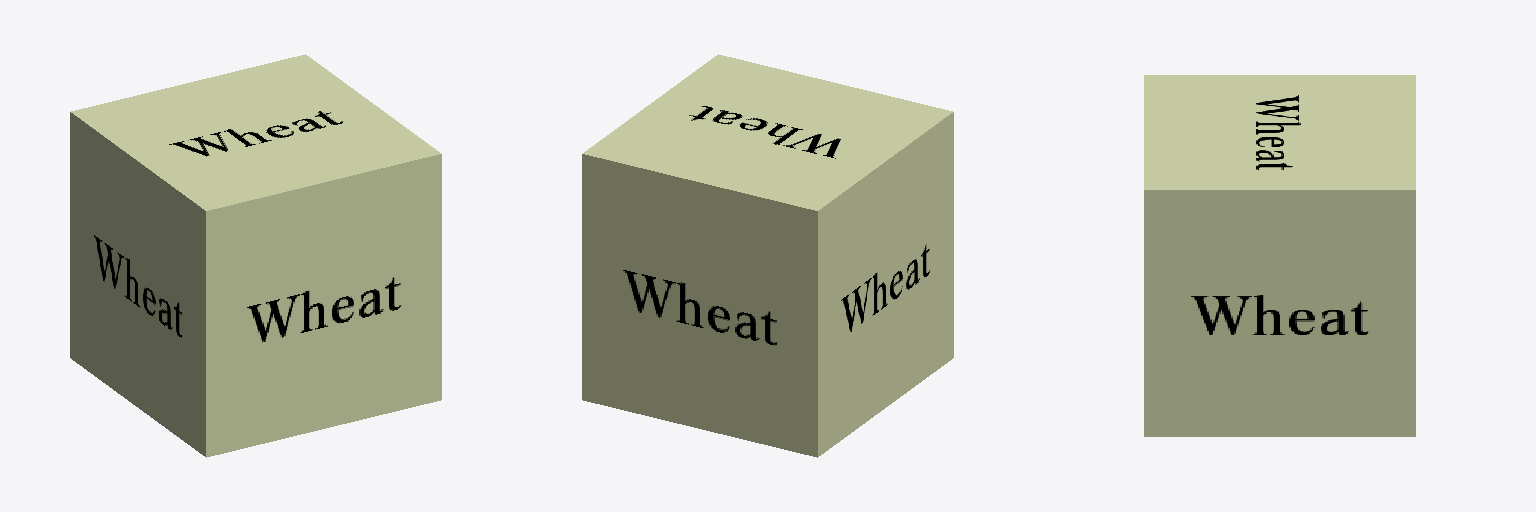
3 renders of one model, left to right at view 1: azimuth 30°, elevation 25°; view 2: azimuth 150°, elevation 25°; view 3: azimuth 270°, elevation 25°, orthographic.
Visible parts, largest first — view 1: Cube; view 2: Cube; view 3: Cube.
Boxes of the visible parts, box(x1,y1,x2,y2) form: Cube: box(70, 54, 441, 457); Cube: box(582, 54, 953, 457); Cube: box(1144, 75, 1415, 436).
Size of the model in its own units: 0.6 by 0.6 by 0.6.
Materials: 1 (1 with a texture image).